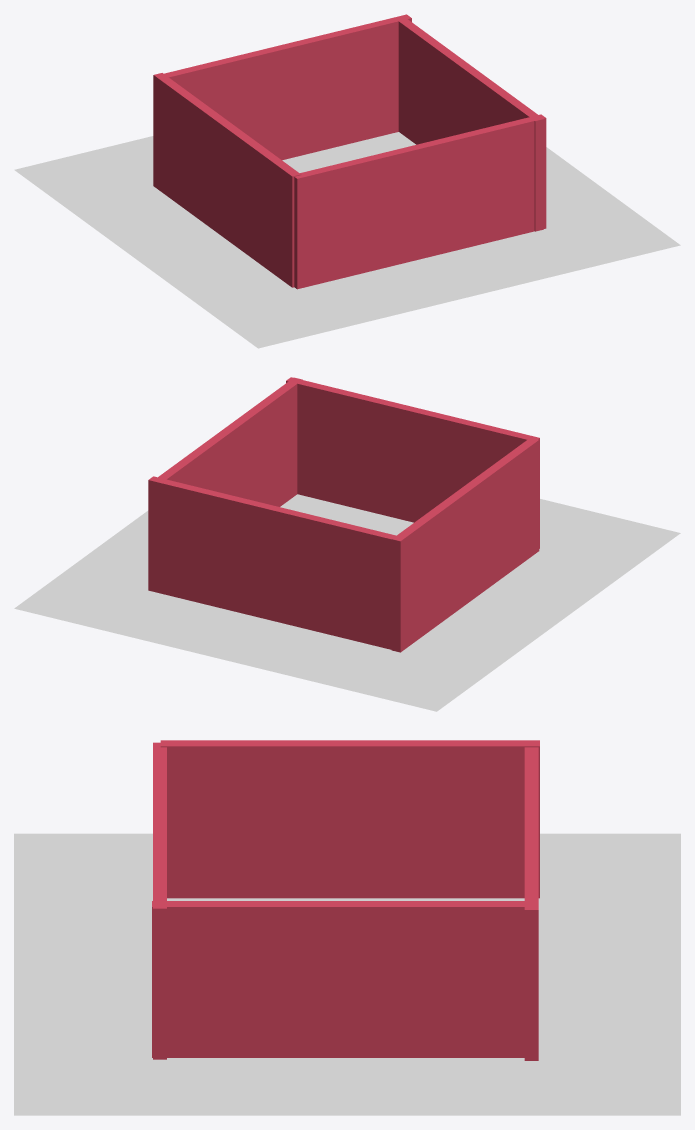
The picture shows the model from 3 angles, top to bottom: view 1: azimuth 30°, elevation 25°; view 2: azimuth 150°, elevation 25°; view 3: azimuth 270°, elevation 25°; orthographic projection. The views are drawn at different scales.
Parts seen in each view (by area): view 1: Plane, Cube.004, Cube.002, Cube.001, Cube.003; view 2: Plane, Cube.002, Cube.004, Cube.001, Cube.003; view 3: Plane, Cube.001, Cube.003, Cube.002, Cube.004.
Boxes of the visible parts, x1,y1,x2,y2 form: Plane: (14,132,680,348); Cube.004: (294,114,546,289); Cube.002: (164,14,411,160); Cube.001: (153,73,301,287); Cube.003: (394,15,543,231); Plane: (14,494,680,711); Cube.002: (148,476,395,649); Cube.004: (286,377,539,548); Cube.001: (391,437,539,652); Cube.003: (153,377,302,506); Plane: (14,833,680,1115); Cube.001: (160,740,539,898); Cube.003: (152,901,537,1057); Cube.002: (524,747,538,1060); Cube.004: (153,742,166,1059).
Bounding box in the file's own units: 7.41 × 7.41 × 1.94.
